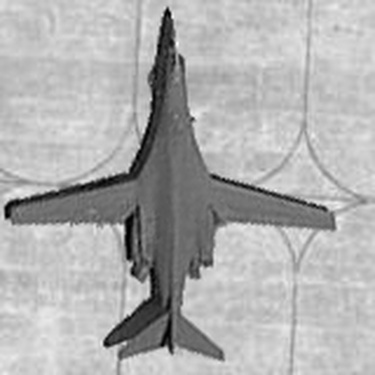airplane: (1, 1, 340, 363)
